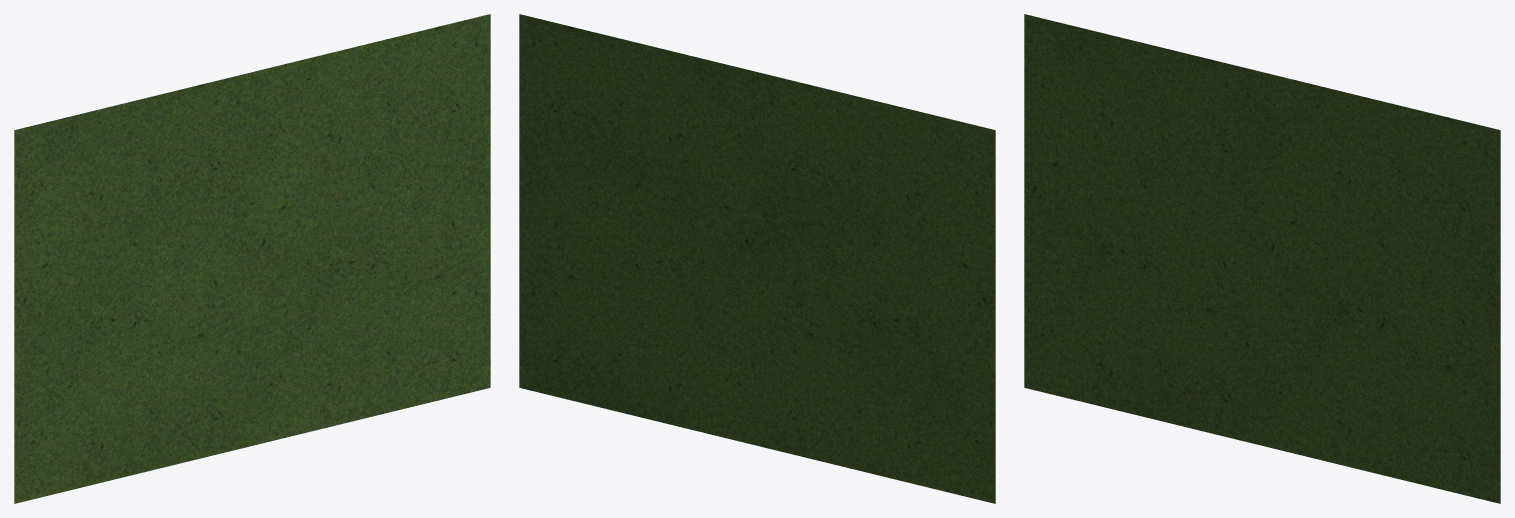
The model's file is mixed0.obj.
3 renders of one model, left to right at view 1: azimuth 30°, elevation 25°; view 2: azimuth 150°, elevation 25°; view 3: azimuth 330°, elevation 25°, orthographic.
Visible parts, largest first — view 1: mixed0; view 2: mixed0; view 3: mixed0.
Part boxes in pixels (x1=…): mixed0: x1=14, y1=14, x2=490, y2=503; mixed0: x1=519, y1=14, x2=995, y2=503; mixed0: x1=1024, y1=14, x2=1500, y2=503.
Bounding box in the file's own units: 4 × 3 × 0.0204.
Materials: 1 (1 with a texture image).
